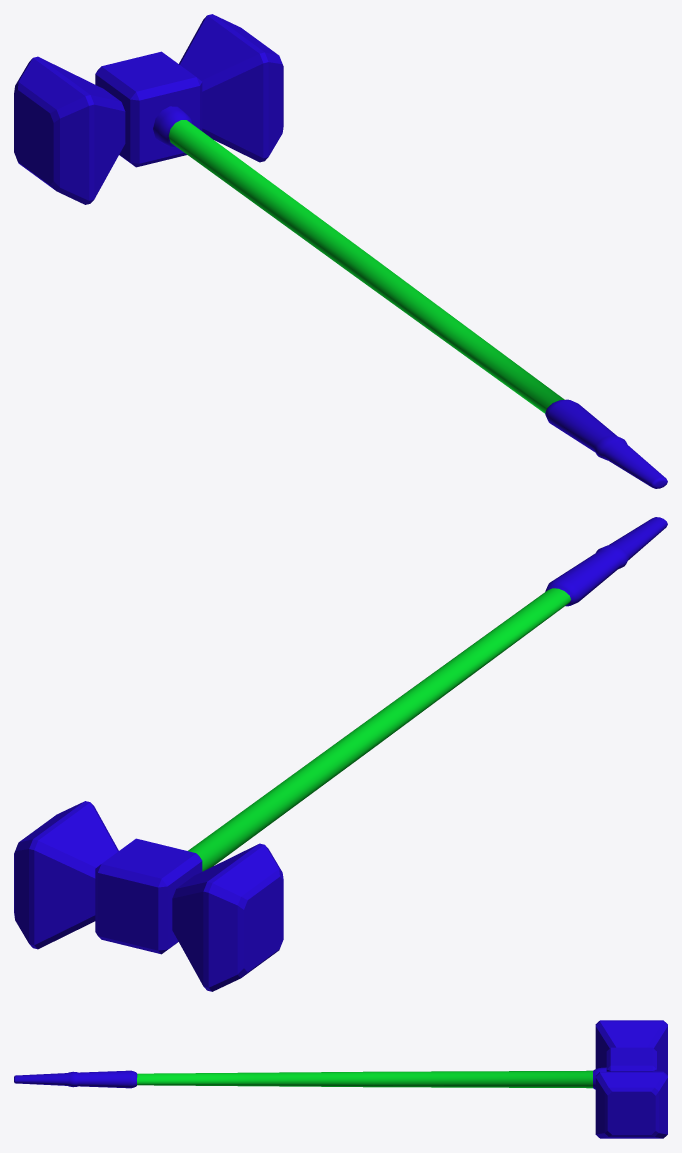
Rendered from sm_Steel_Warhammer.fbx.
3 views of the same model, one above another, from view 1: azimuth 30°, elevation 25°; view 2: azimuth 150°, elevation 25°; view 3: azimuth 270°, elevation 25° (orthographic). The views are drawn at different scales.
Visible parts, largest first — view 1: Steel_hammer; view 2: Steel_hammer; view 3: Steel_hammer.
Boxes of the visible parts, x1,y1,x2,y2 form: Steel_hammer: (14,14,667,488); Steel_hammer: (14,517,667,991); Steel_hammer: (14,1020,667,1138).
Size of the model in its own units: 40.74 by 18.41 by 166.
